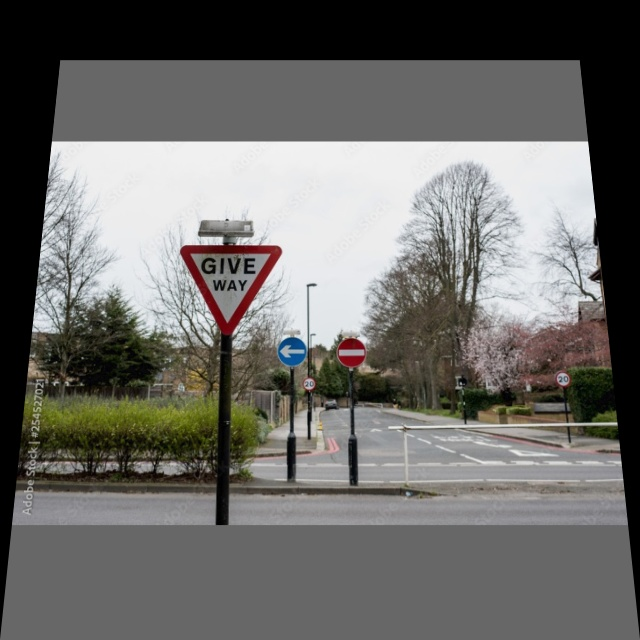Give_Way: (175, 244, 283, 334)
